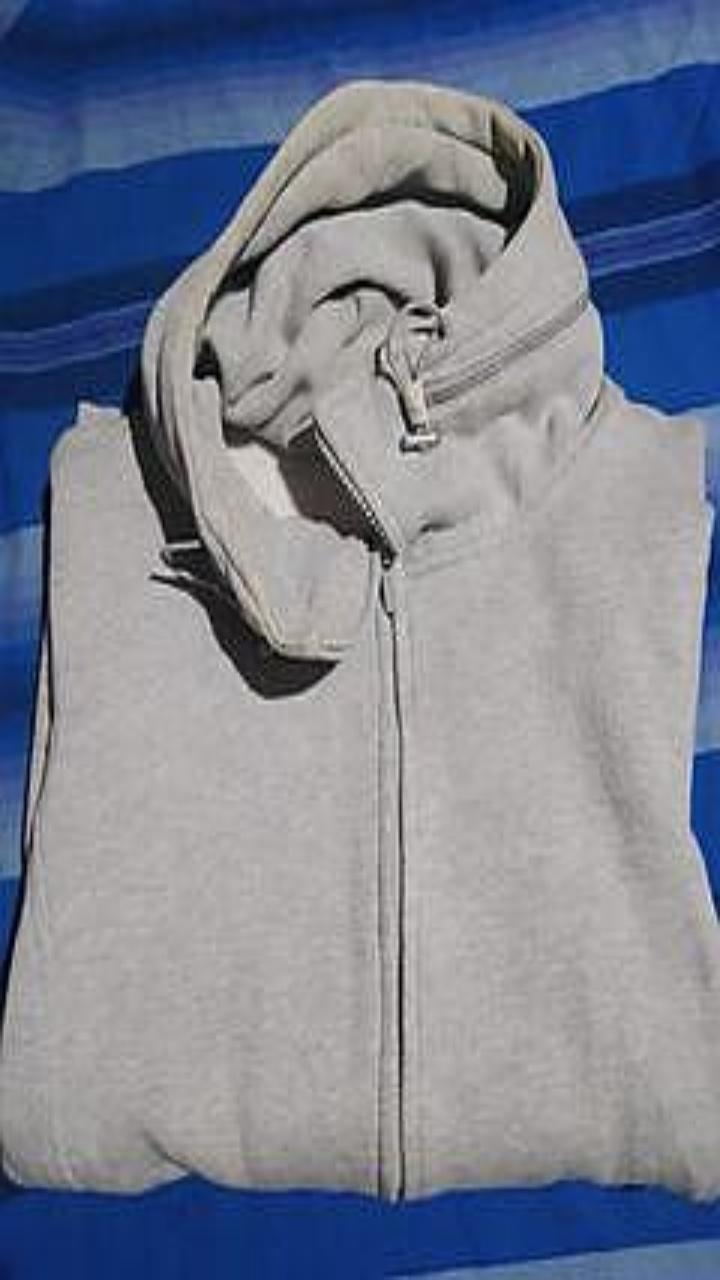Hoodie: (0, 80, 719, 1199)
